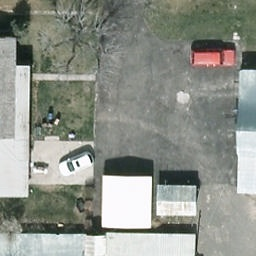car: (55, 151, 97, 179), (189, 49, 236, 68)
